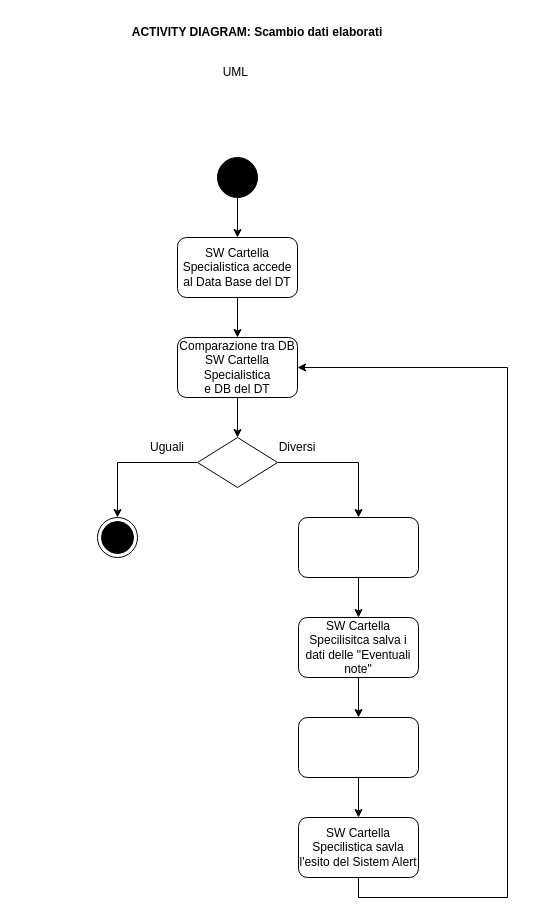
Some shapes in this 533 by 923 pixel diagram are drawn without their labels. The box of each missing label's shape, as (x1, y1, x2, y2) in pixels:
SW Cartella Specilisitca salva i dati del "Dati di monitoraggio": (298, 716, 418, 778)
SW Cartella Specilisitca salva i dati del "Diario Clinico": (298, 516, 418, 578)
